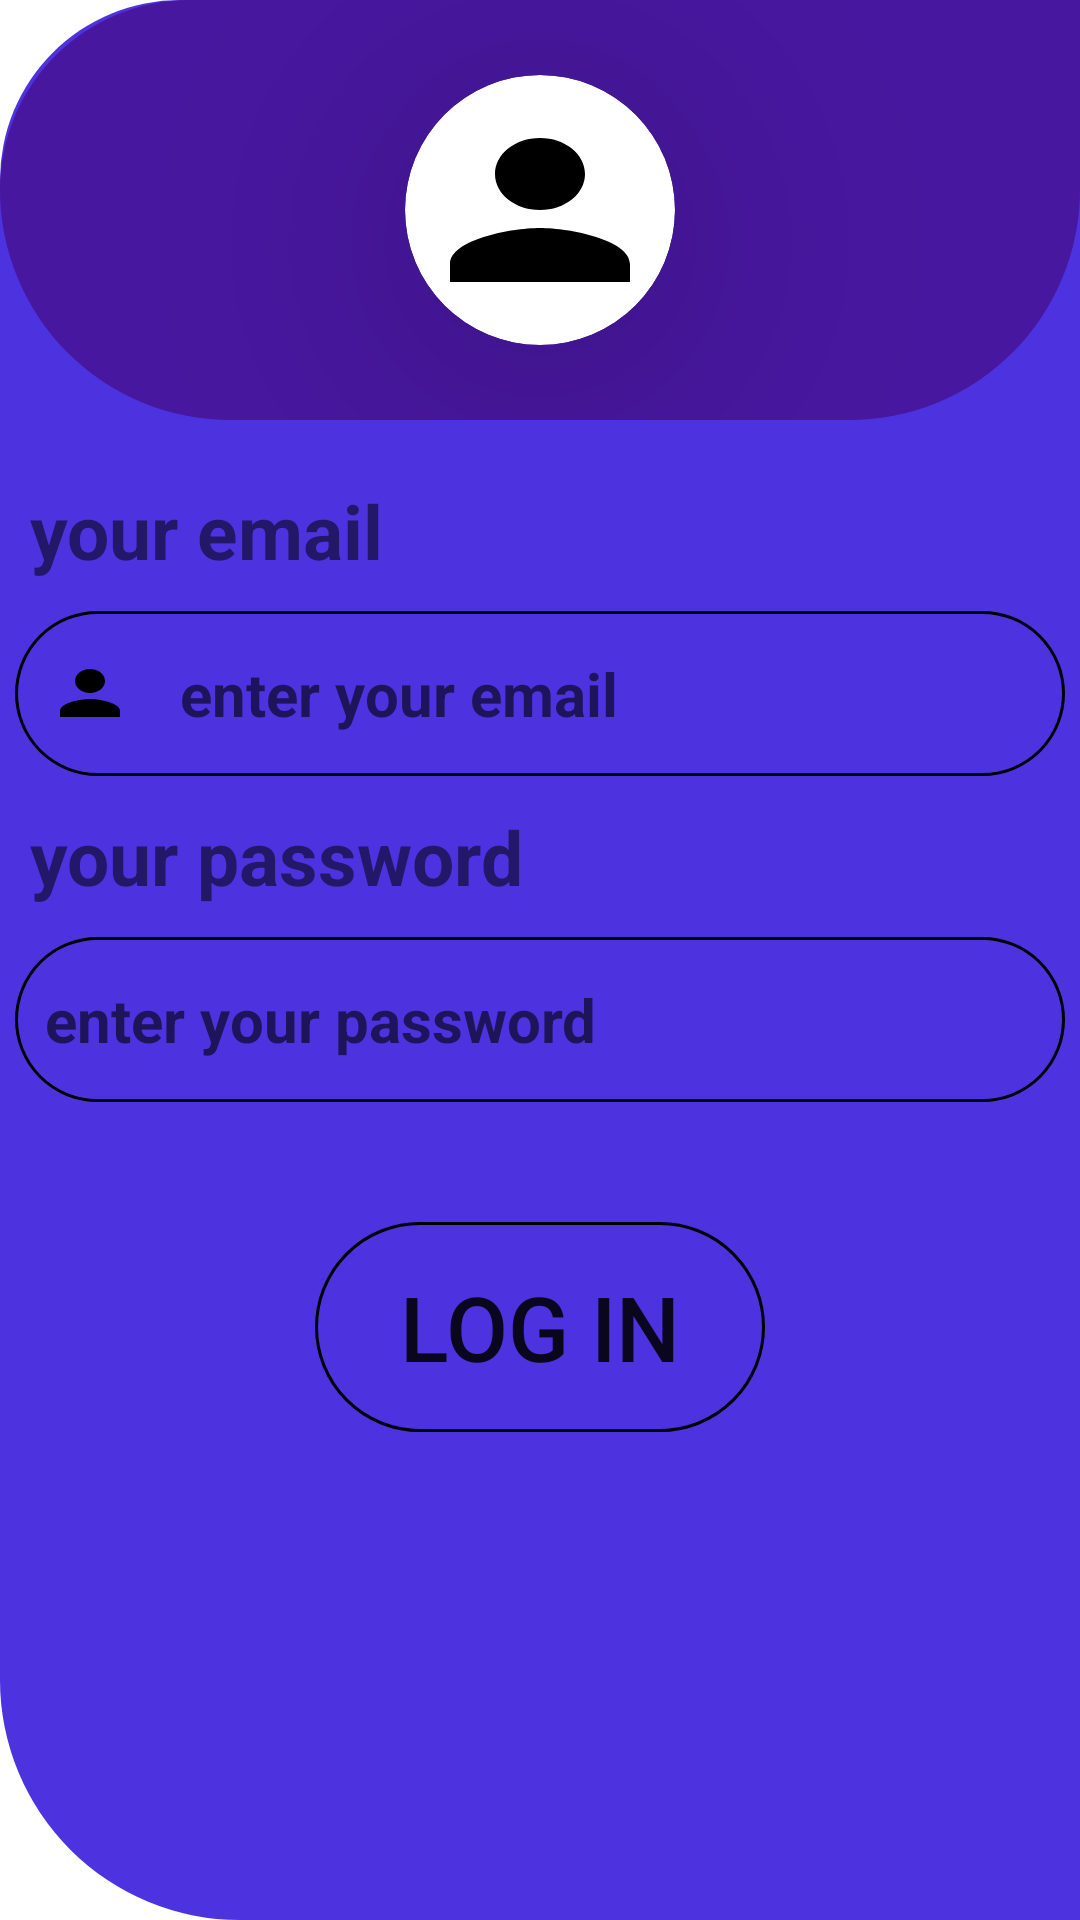

Point at icon controls on the screen. Image size 1080x1920, points as (x,y).
person: (540,210)
